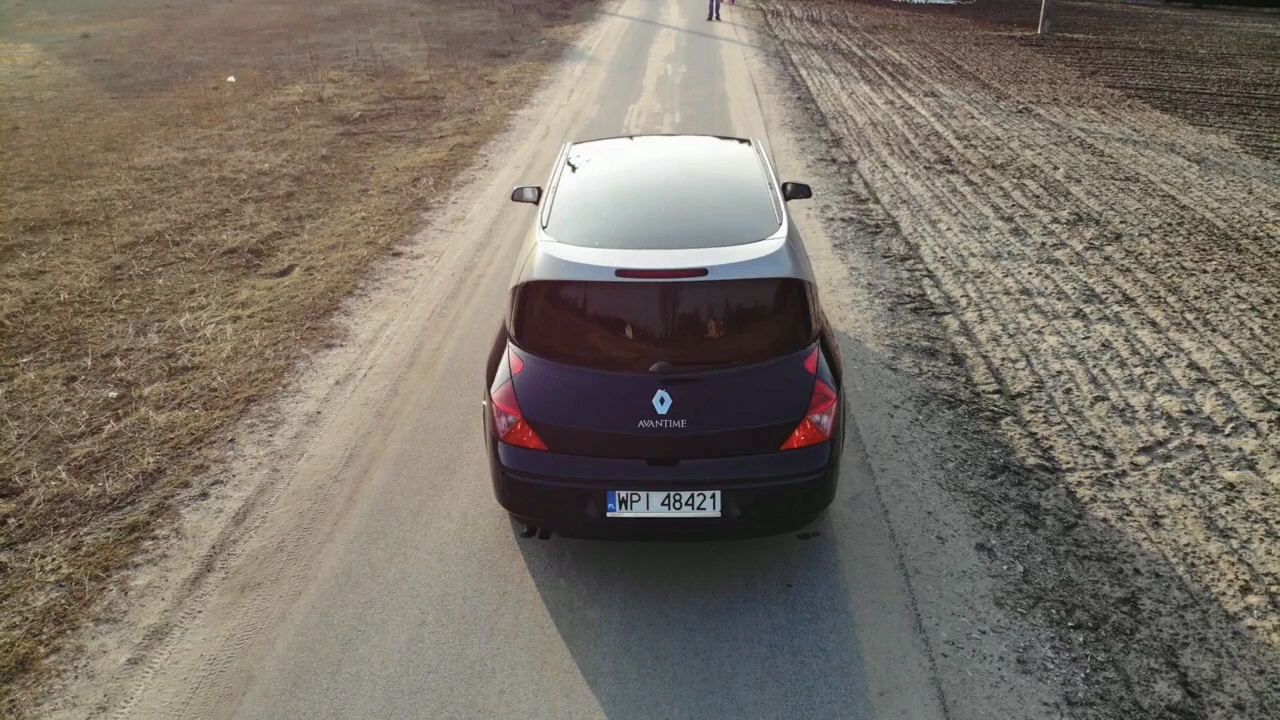araba: (480, 129, 845, 537)
